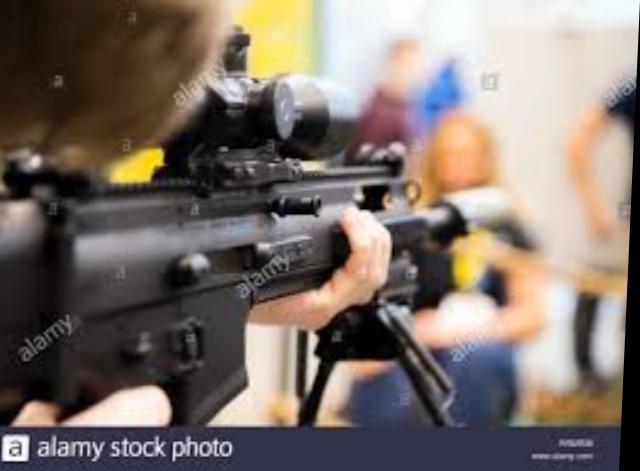other: (0, 23, 235, 416)
